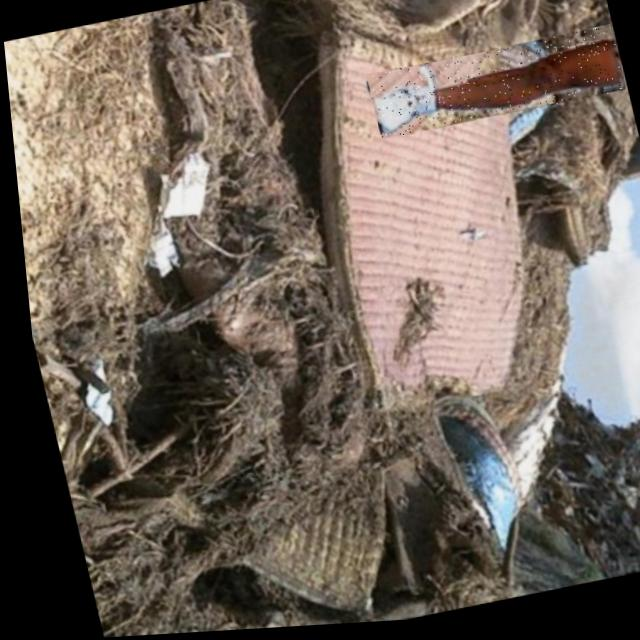Person in Rubble: (361, 32, 625, 144)
